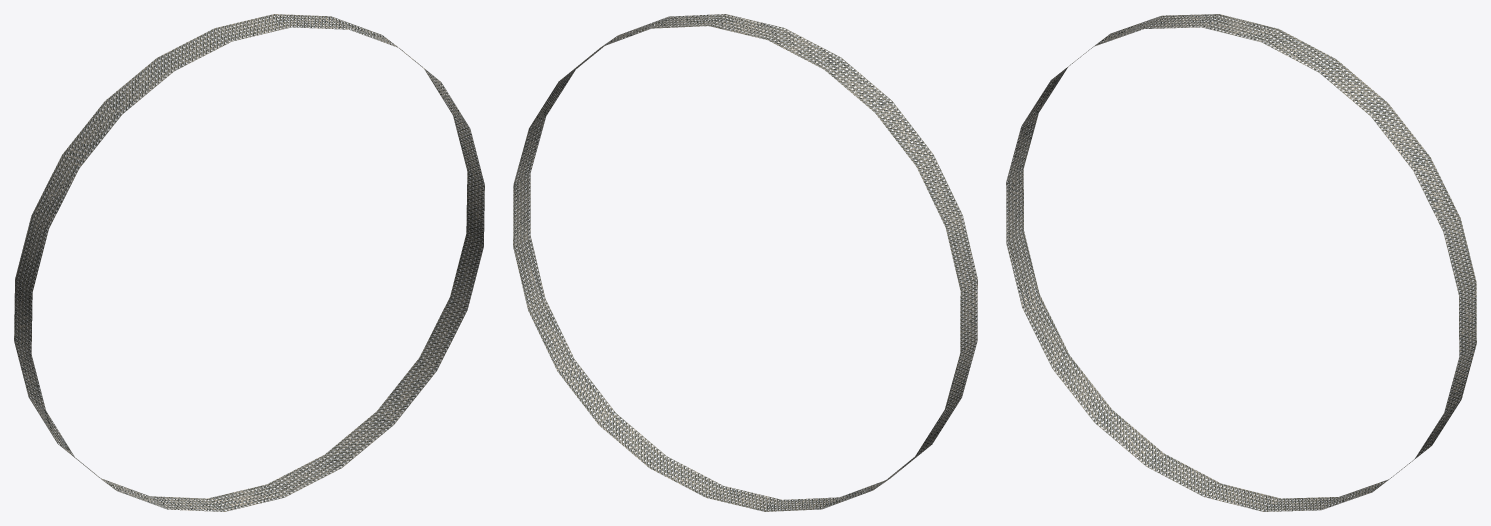
Rendered from original-250.obj.
3 renders of one model, left to right at view 1: azimuth 30°, elevation 25°; view 2: azimuth 150°, elevation 25°; view 3: azimuth 330°, elevation 25°, orthographic.
Parts seen in each view (by area): view 1: Group10/mesh101/mesh101-geometry/material_0#mesh101-geometry; view 2: Group10/mesh101/mesh101-geometry/material_0#mesh101-geometry; view 3: Group10/mesh101/mesh101-geometry/material_0#mesh101-geometry.
Boxes of the visible parts, x1,y1,x2,y2 form: Group10/mesh101/mesh101-geometry/material_0#mesh101-geometry: [14, 14, 484, 511]; Group10/mesh101/mesh101-geometry/material_0#mesh101-geometry: [513, 14, 977, 511]; Group10/mesh101/mesh101-geometry/material_0#mesh101-geometry: [1006, 14, 1476, 511].
Bounding box in the file's own units: 0.7704 × 0.7712 × 0.0658.
